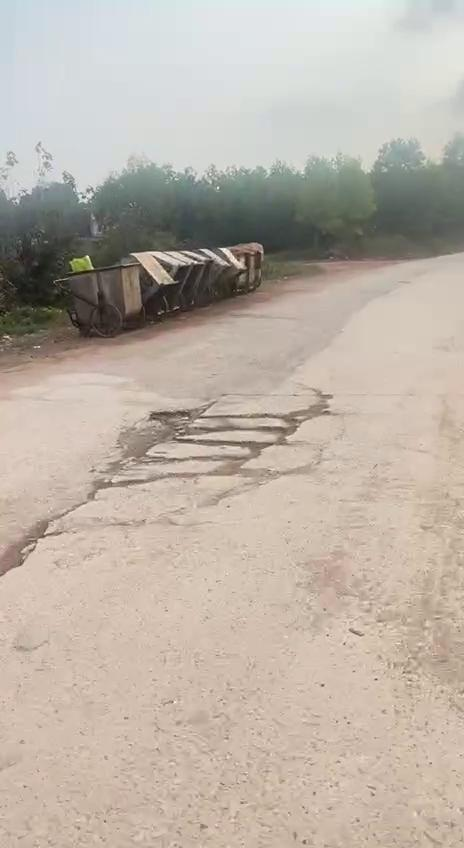pothole: (92, 394, 339, 493)
